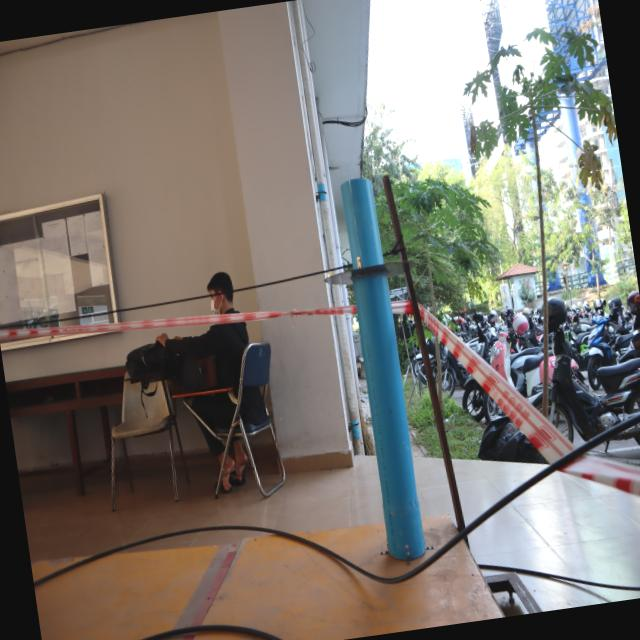pole: (302, 165, 428, 362)
